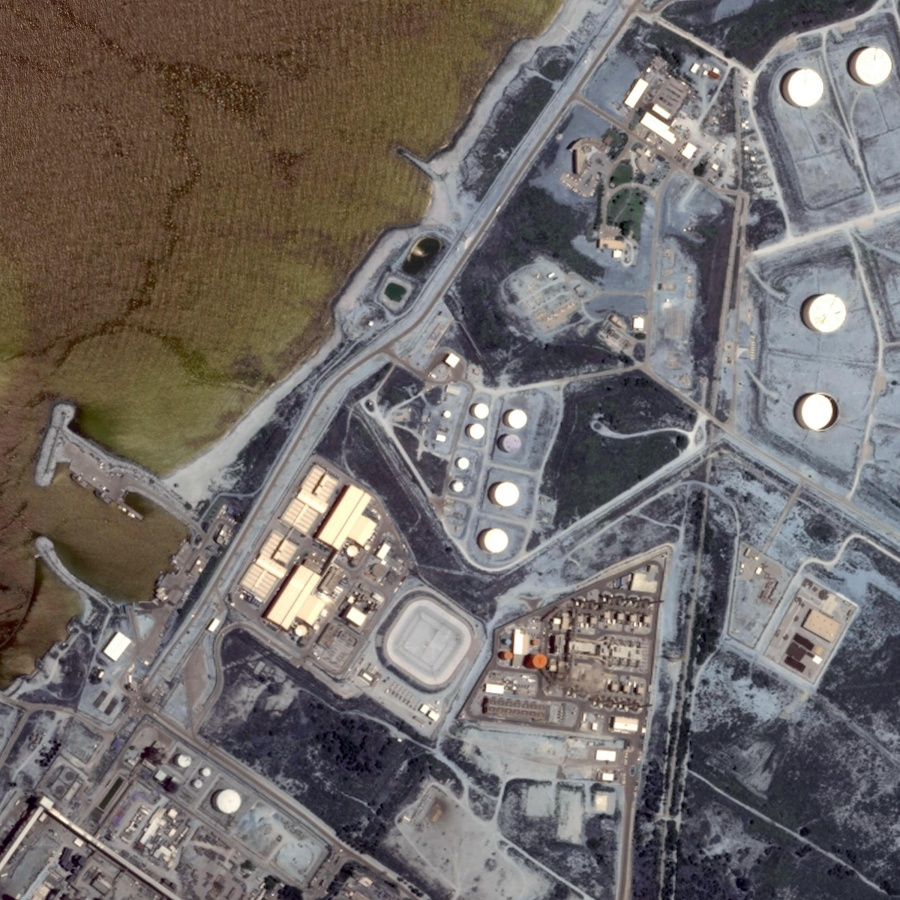PowerPlant: (368, 352, 600, 566)
